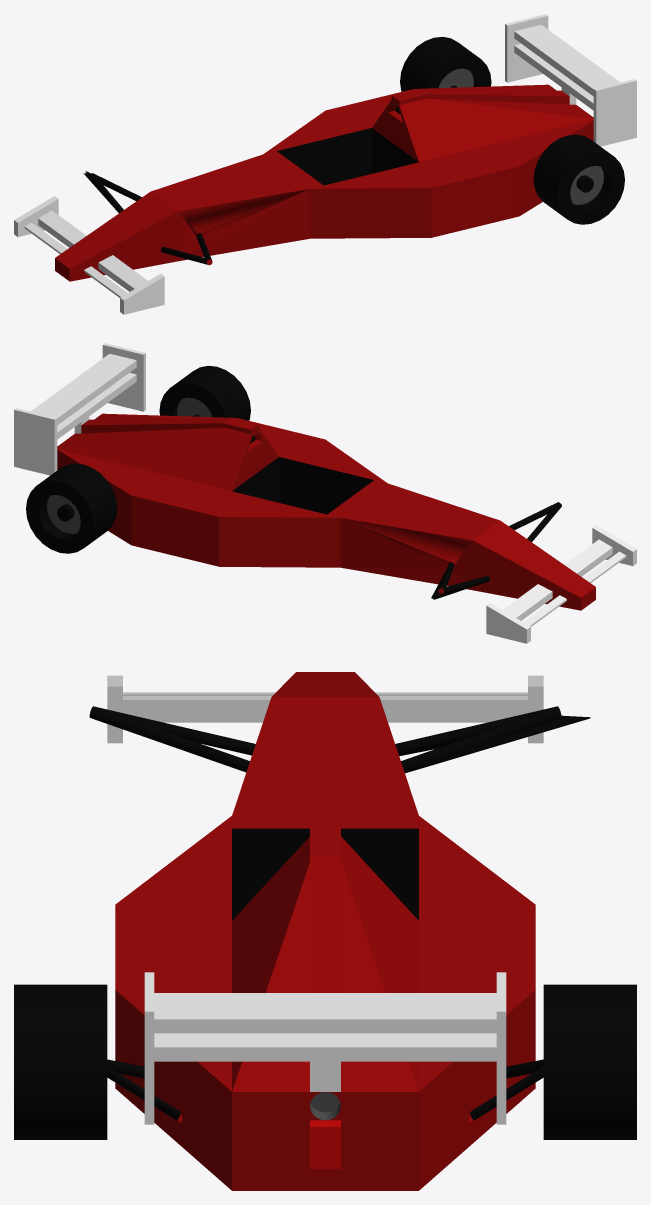
Rendered from car_body.glb.
3 views of the same model, one above another, from view 1: azimuth 30°, elevation 25°; view 2: azimuth 150°, elevation 25°; view 3: azimuth 270°, elevation 25° (orthographic). The views are drawn at different scales.
Parts seen in each view (by area): view 1: 3DGeom~1, 3DGeom~5, 3DGeom~2, 3DGeom~4, 3DGeom~3; view 2: 3DGeom~1, 3DGeom~5, 3DGeom~2, 3DGeom~4, 3DGeom~3; view 3: 3DGeom~1, 3DGeom~5, 3DGeom~2, 3DGeom~4, 3DGeom~6.
Boxes of the visible parts, x1=… form: 3DGeom~1: x1=55, y1=84, x2=593, y2=281; 3DGeom~5: x1=14, y1=14, x2=636, y2=314; 3DGeom~2: x1=400, y1=36, x2=624, y2=224; 3DGeom~4: x1=83, y1=85, x2=593, y2=264; 3DGeom~3: x1=438, y1=68, x2=603, y2=204; 3DGeom~1: x1=57, y1=413, x2=595, y2=610; 3DGeom~5: x1=14, y1=343, x2=636, y2=643; 3DGeom~2: x1=26, y1=365, x2=250, y2=553; 3DGeom~4: x1=57, y1=414, x2=561, y2=599; 3DGeom~3: x1=47, y1=397, x2=212, y2=533; 3DGeom~1: x1=115, y1=672, x2=535, y2=1190; 3DGeom~5: x1=107, y1=675, x2=543, y2=1124; 3DGeom~2: x1=14, y1=984, x2=636, y2=1139; 3DGeom~4: x1=89, y1=706, x2=590, y2=1120; 3DGeom~6: x1=310, y1=1120, x2=340, y2=1169.
Size of the model in its own units: 3.89 by 0.7 by 2.
